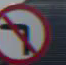Don't turn left: (0, 0, 58, 62)
